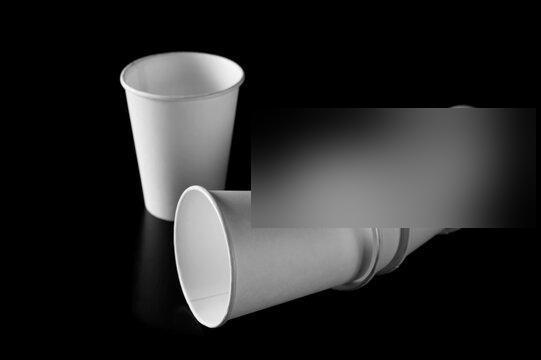cup-disposable: (119, 49, 246, 223)
